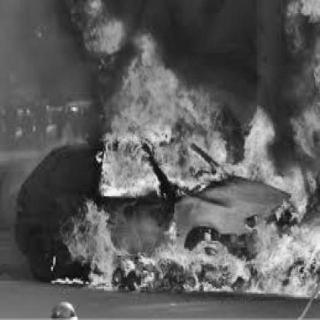Fire: (55, 0, 317, 300)
